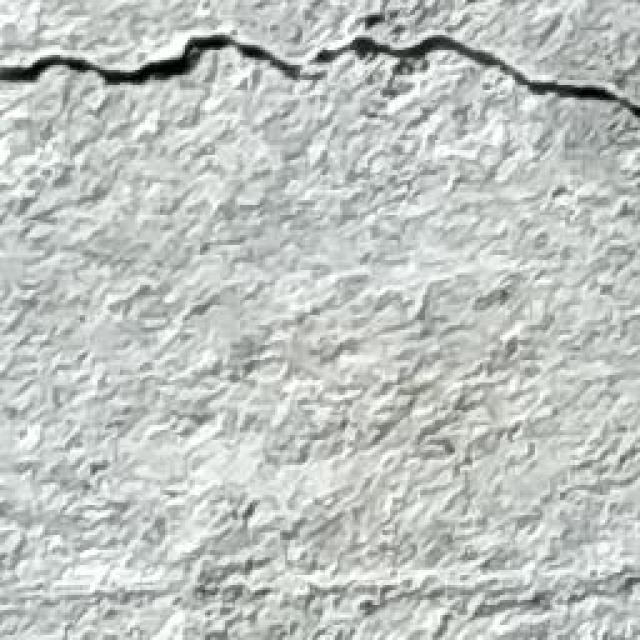Rippled: (2, 176, 640, 640)
Transverse: (0, 19, 640, 140)
